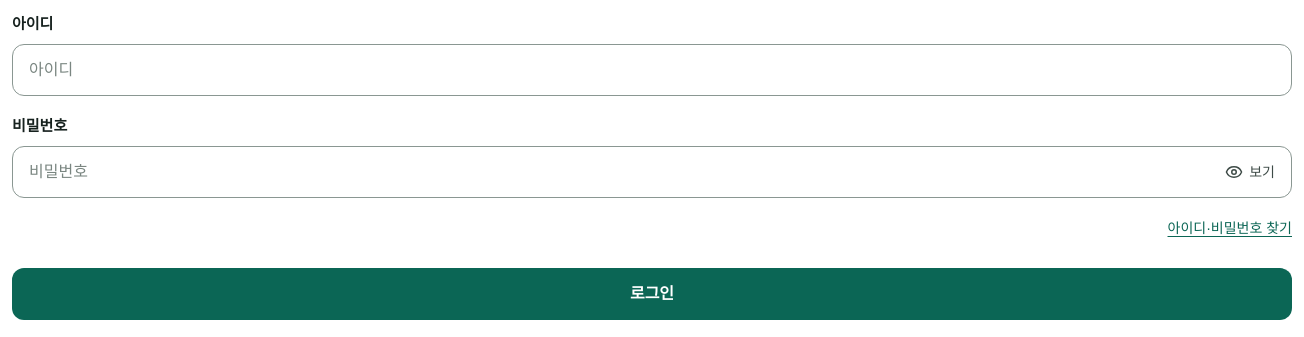
new auth forms › shows only username and password (no email/phone login, no remember option) and toggles visibility
Click the button with aria-label "비밀번호 보기" at (1250, 172), box [1213,150,1287,194]
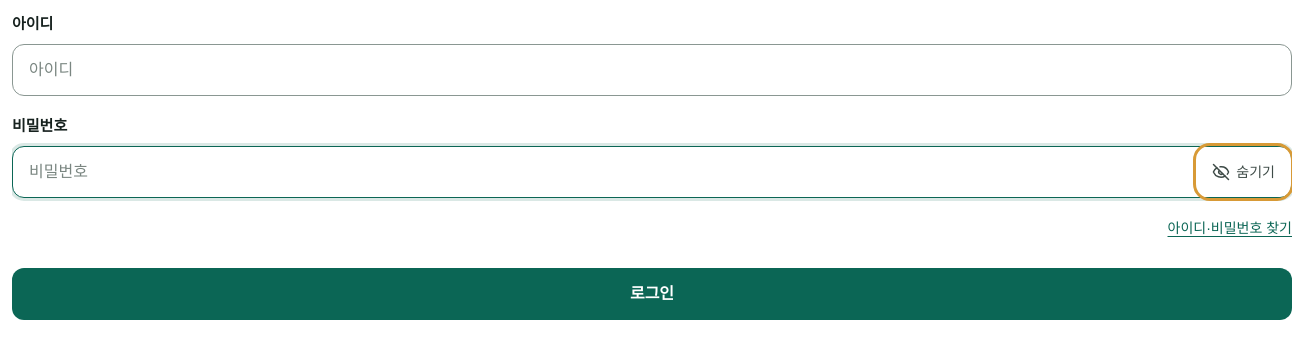
Result: the button with aria-label "비밀번호 숨기기" is shown at [1200,150,1287,194]
